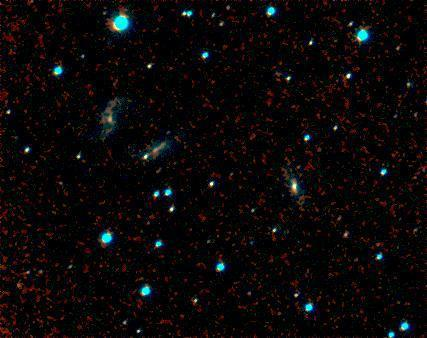star: (94, 290, 124, 320)
